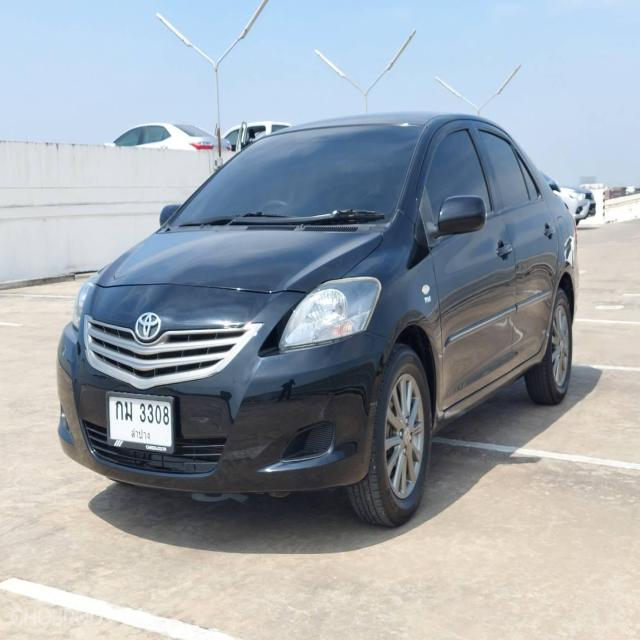license_plate: (106, 389, 175, 453)
